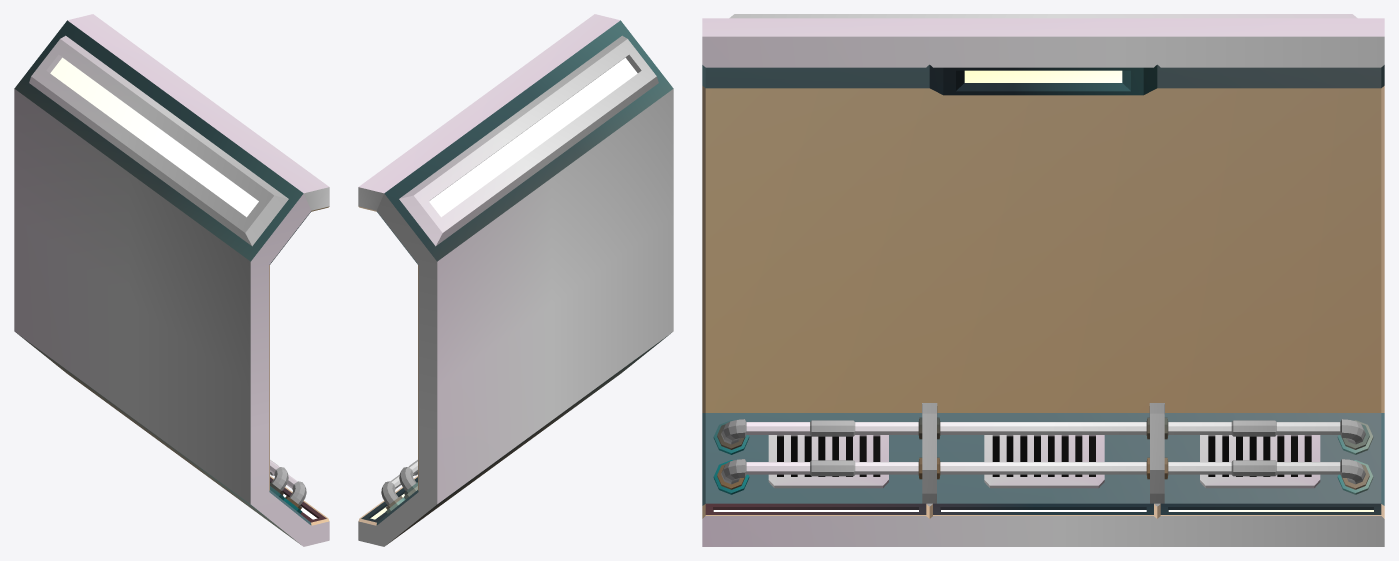
The model's file is C_NoFloor_NoCeiling.fbx.
3 views of the same model, side by side, from view 1: azimuth 30°, elevation 25°; view 2: azimuth 150°, elevation 25°; view 3: azimuth 270°, elevation 25° (orthographic). The views are drawn at different scales.
Parts seen in each view (by area): view 1: C_NoFloor_NoCeiling; view 2: C_NoFloor_NoCeiling; view 3: C_NoFloor_NoCeiling.
Part boxes in pixels (x1=…): C_NoFloor_NoCeiling: x1=14, y1=14, x2=329, y2=546; C_NoFloor_NoCeiling: x1=358, y1=14, x2=673, y2=546; C_NoFloor_NoCeiling: x1=702, y1=14, x2=1384, y2=546.
Size of the model in its own units: 77 by 330 by 400.
